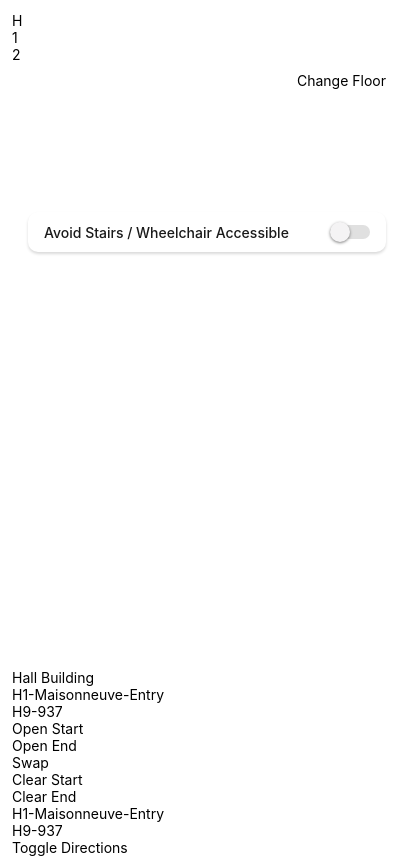
Scenario: IndoorNavigation › restarts the full room-to-room flow from the beginning with swapped endpoints when swap is pressed in a forced target-building flow
Step 1. Click the element with test id "swap-locations" → click(30, 762), box x1=12 y1=754 x2=49 y2=771
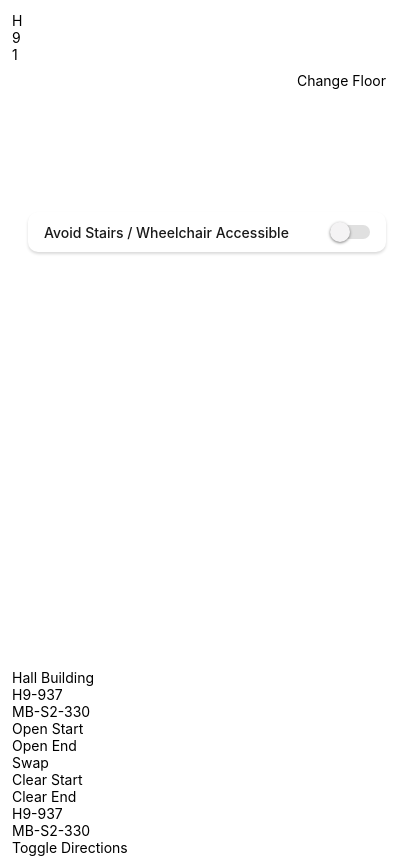
Expected: the text with test id "start-room-value" reads "H9-937", x1=12 y1=686 x2=63 y2=703
Expected: the text with test id "end-room-value" reads "MB-S2-330", x1=12 y1=703 x2=90 y2=720
